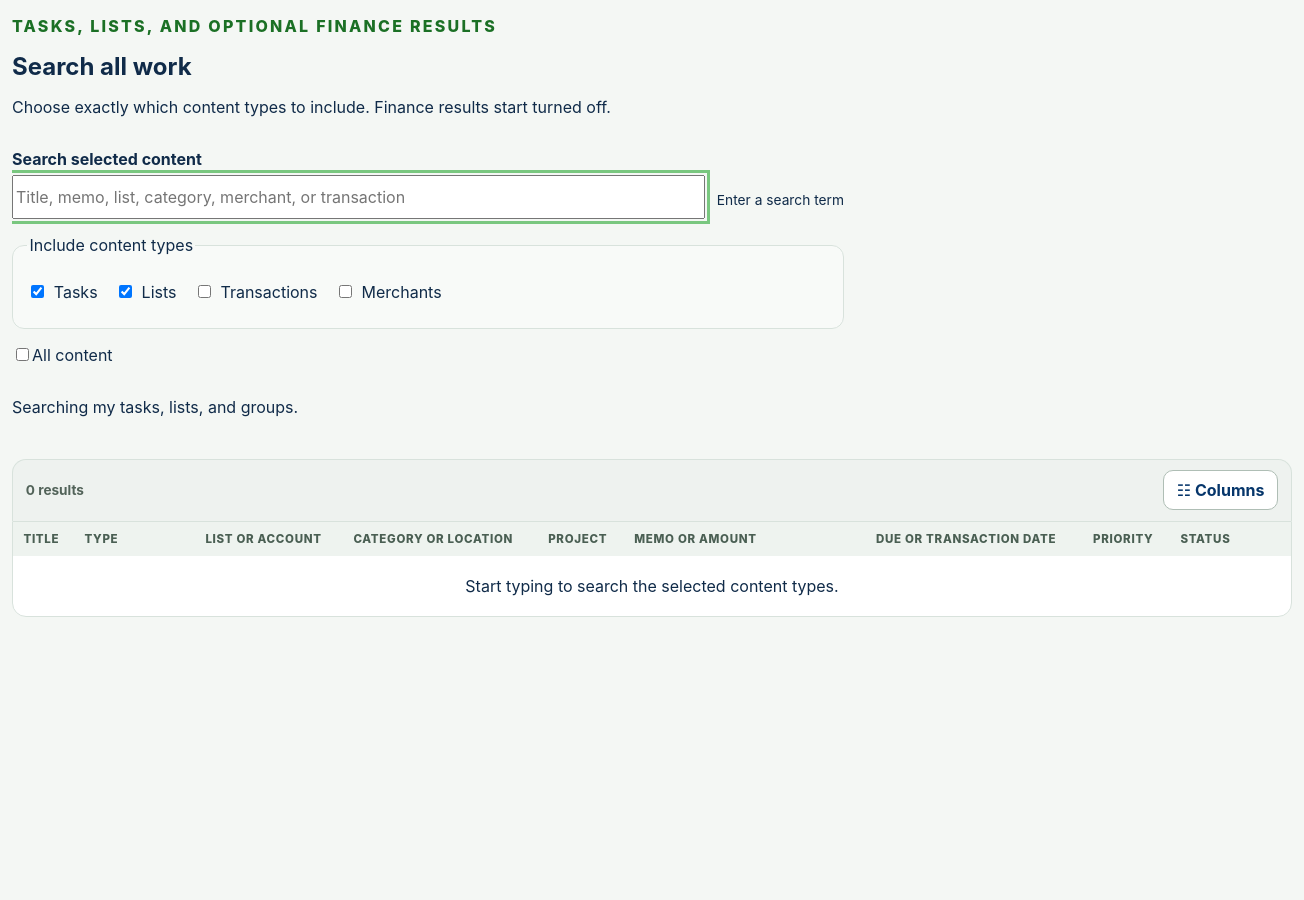
Scenario: combined search scope › defaults to the viewer and their groups and can search all readable content
Type "Task" into the search field at coordinates (358, 197), box [12,175,705,219]
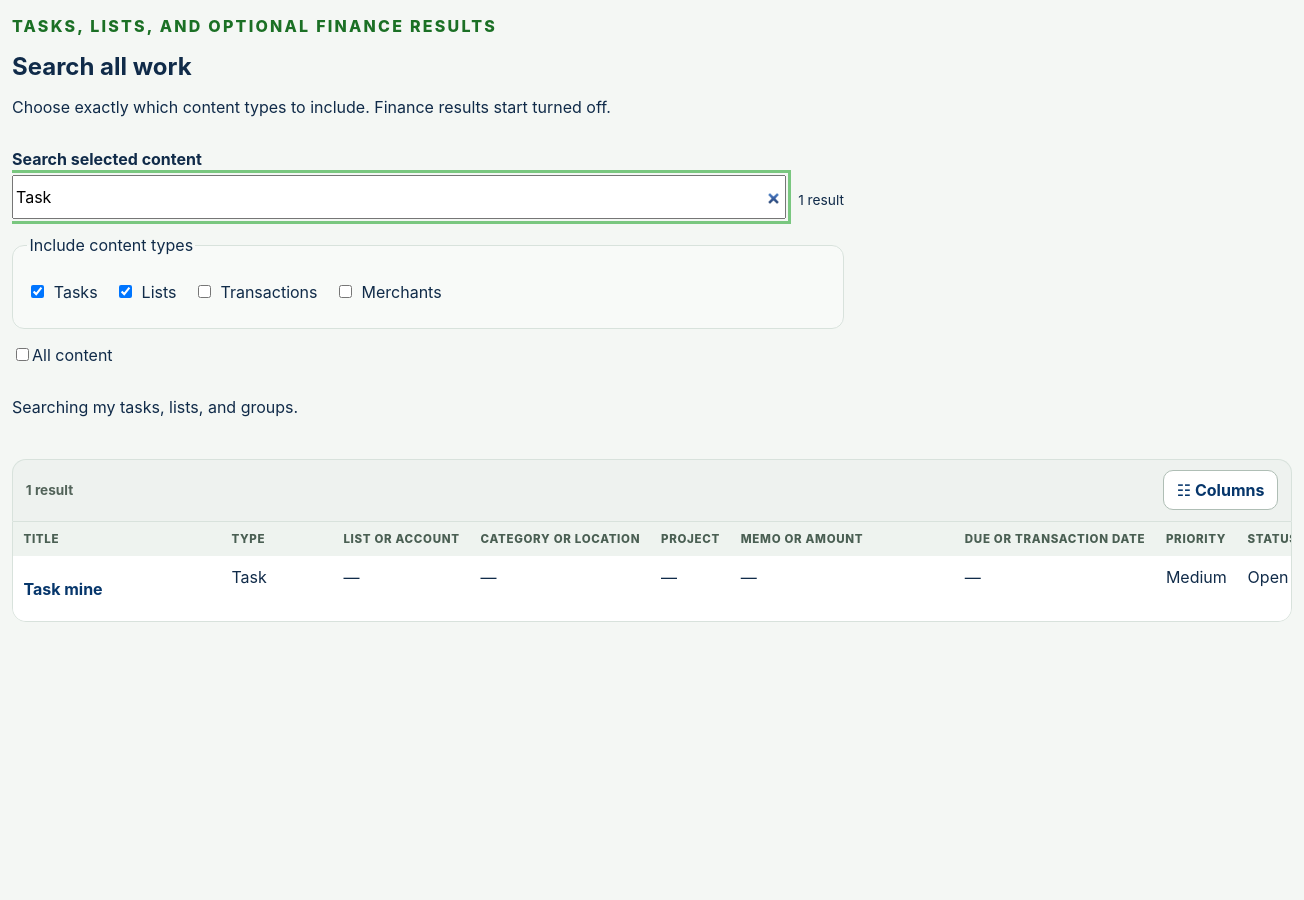
Expected: the button "Task theirs" is not shown
Now the button "Task mine" is shown, box [23,567,103,611]
Click the checkbox labelled "All content" at coordinates (22, 355), box [16,348,29,361]
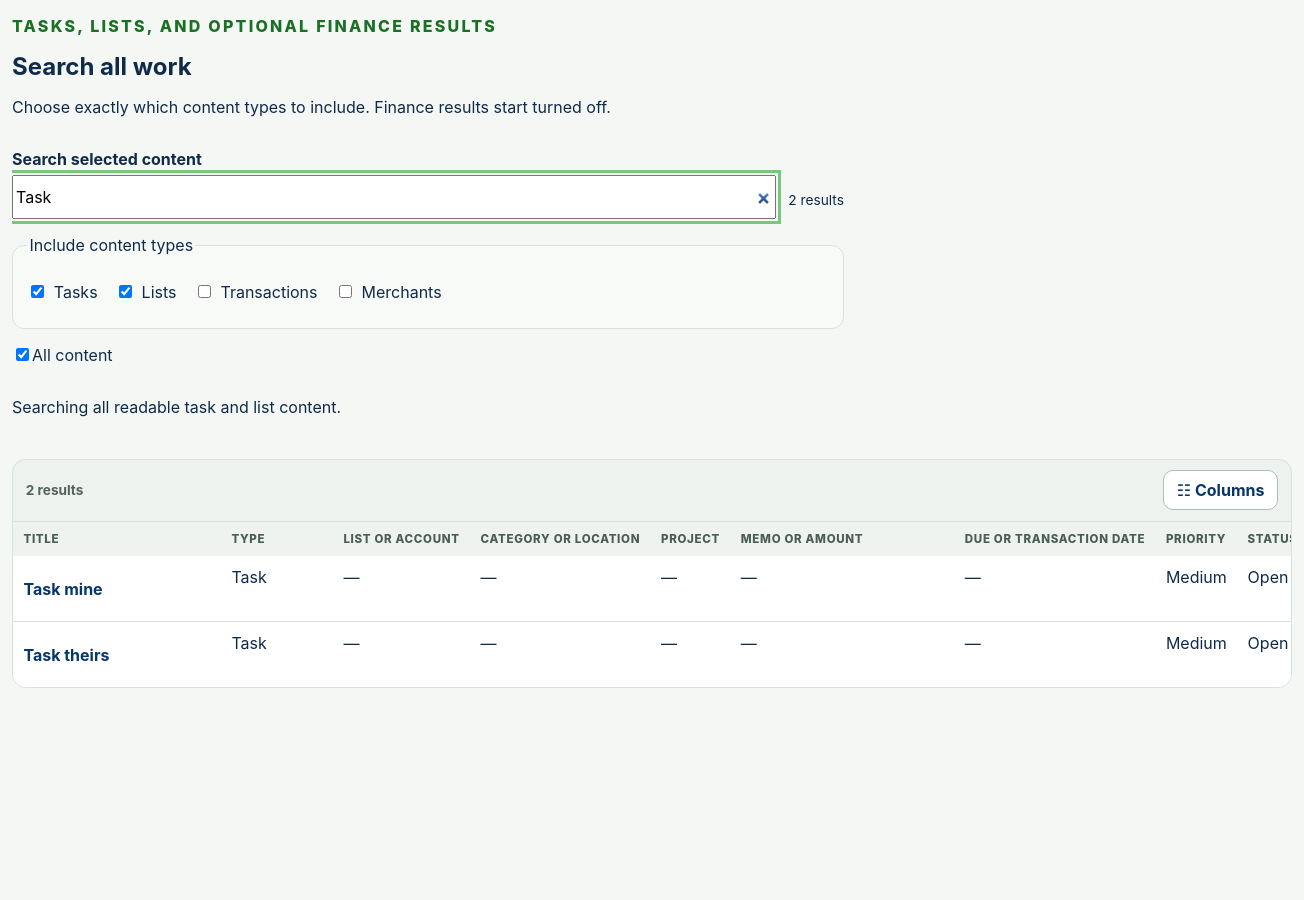
Now the button "Task theirs" is shown, box [23,632,109,676]
